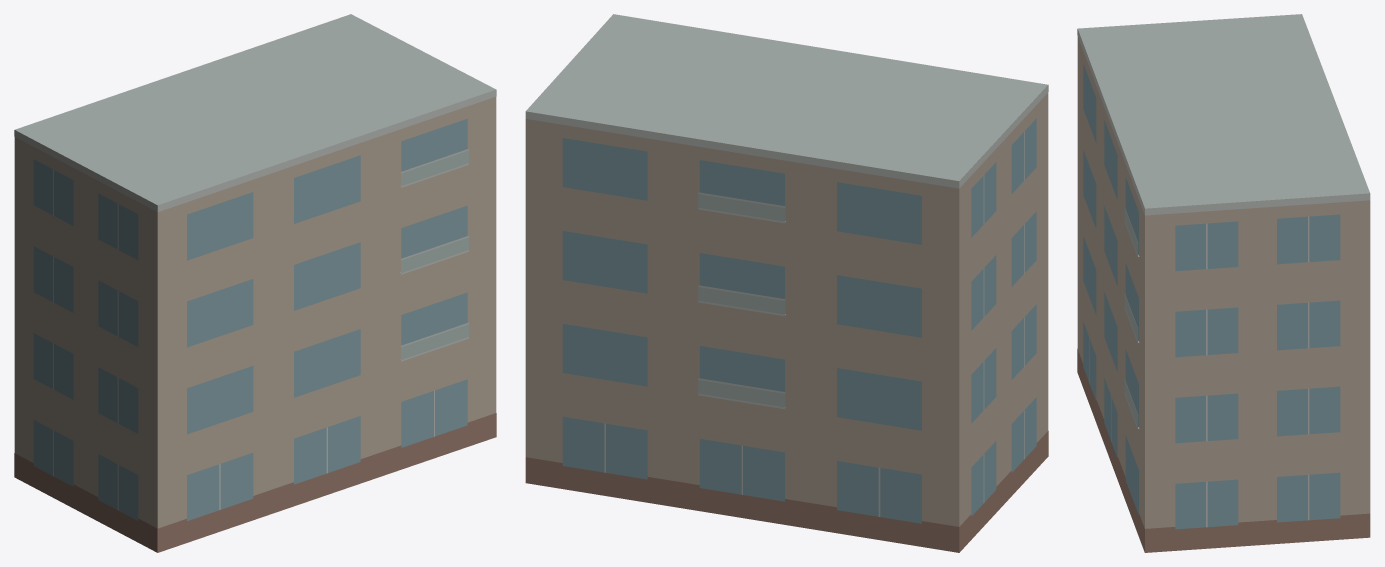
Rendered from survey-upis-32961654.glb.
3 views of the same model, side by side, from view 1: azimuth 30°, elevation 25°; view 2: azimuth 150°, elevation 25°; view 3: azimuth 270°, elevation 25° (orthographic). The views are drawn at different scales.
Parts seen in each view (by area): view 1: survey-upis-32961654.tmp; view 2: survey-upis-32961654.tmp; view 3: survey-upis-32961654.tmp.
Boxes of the visible parts, left/top/right/bottom form: survey-upis-32961654.tmp: left=14, top=14, right=496, bottom=552; survey-upis-32961654.tmp: left=525, top=14, right=1048, bottom=552; survey-upis-32961654.tmp: left=1077, top=14, right=1370, bottom=552.
Bounding box in the file's own units: 14.8 × 12.2 × 9.41.
